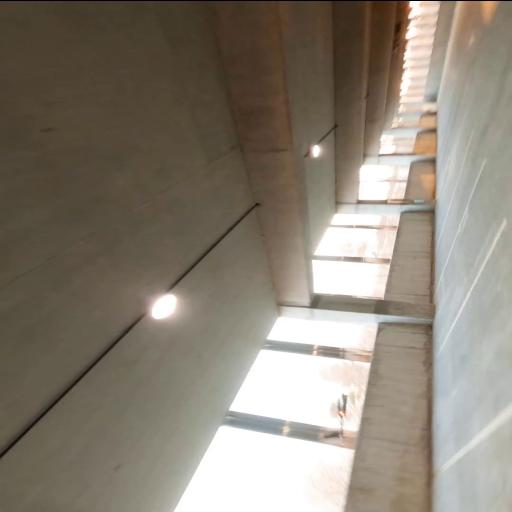uav: (320, 394, 362, 442)
